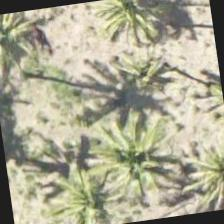Kelapa_Sawit: (71, 102, 173, 204), (30, 149, 130, 223), (78, 0, 175, 54), (180, 123, 223, 215), (0, 10, 41, 81)
